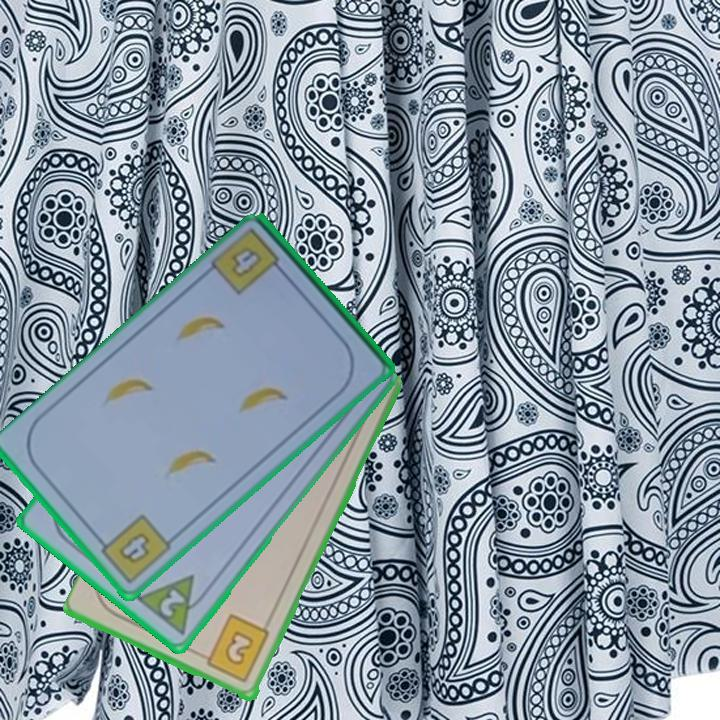2b: (195, 611, 273, 686)
2p: (133, 571, 213, 639)
4b: (92, 511, 175, 587), (227, 243, 265, 281)
